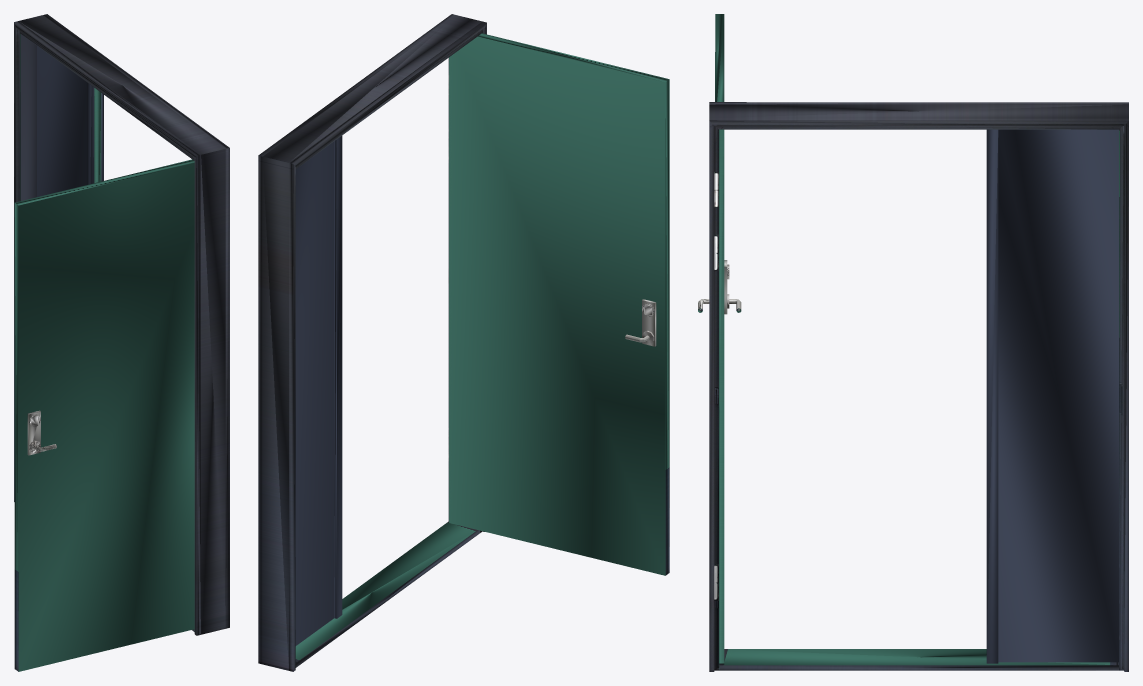
File: TELLUS_arena_SMALL_DOOR_017.FBX
3 views of the same model, side by side, from view 1: azimuth 30°, elevation 25°; view 2: azimuth 150°, elevation 25°; view 3: azimuth 270°, elevation 25° (orthographic). The views are drawn at different scales.
Visible parts, largest first — view 1: TELLUS_arena_SMALL_DOOR_017; view 2: TELLUS_arena_SMALL_DOOR_017; view 3: TELLUS_arena_SMALL_DOOR_017.
Part boxes in pixels (x1=…): TELLUS_arena_SMALL_DOOR_017: x1=14, y1=14, x2=229, y2=671; TELLUS_arena_SMALL_DOOR_017: x1=258, y1=14, x2=669, y2=671; TELLUS_arena_SMALL_DOOR_017: x1=698, y1=14, x2=1128, y2=671.
Size of the model in its own units: 99.03 by 154 by 218.
